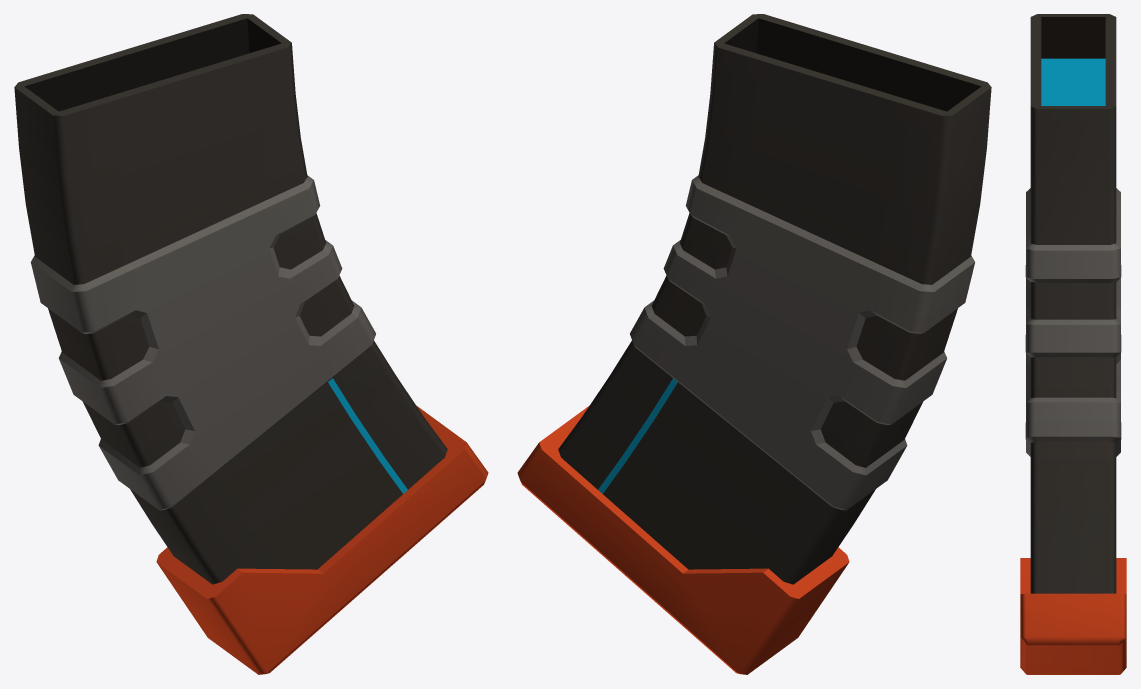
The model's file is AR1_MagazineExtended.fbx.
The picture shows the model from 3 angles, left to right: view 1: azimuth 30°, elevation 25°; view 2: azimuth 150°, elevation 25°; view 3: azimuth 270°, elevation 25°; orthographic projection. The views are drawn at different scales.
Visible parts, largest first — view 1: AR1_MagazineExtended; view 2: AR1_MagazineExtended; view 3: AR1_MagazineExtended.
Part boxes in pixels (x1,y1,x2,y2): AR1_MagazineExtended: (14,14,488,674); AR1_MagazineExtended: (517,14,991,674); AR1_MagazineExtended: (1020,14,1126,674).
Bounding box in the file's own units: 13.36 × 18.46 × 3.07.
